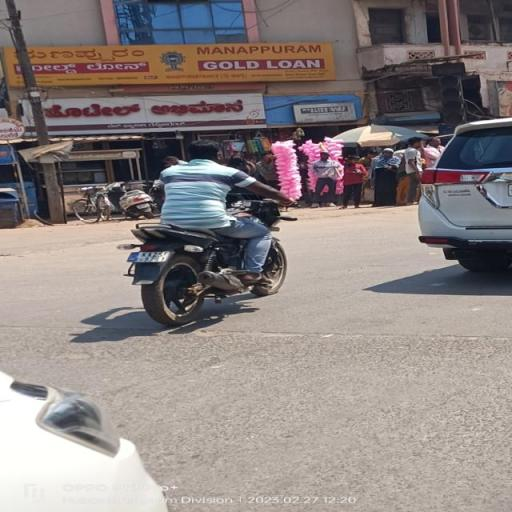bike: (120, 138, 298, 326)
numberplate: (126, 251, 165, 264)
withouthelmet: (186, 140, 224, 161)
